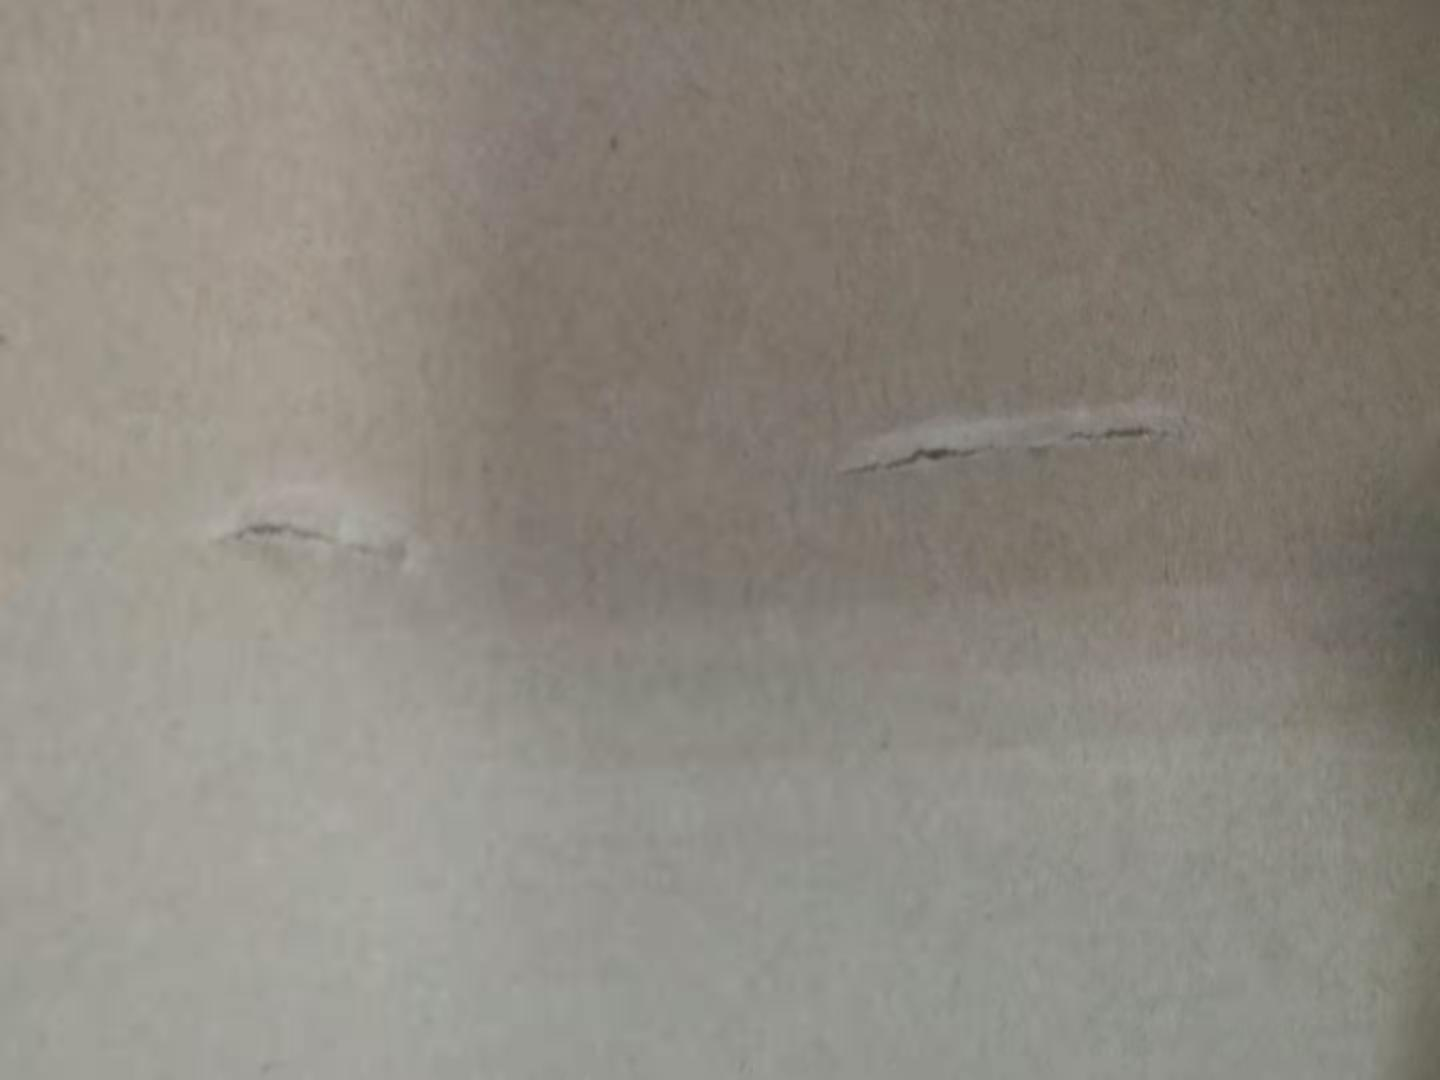defect: (818, 371, 1229, 501), (189, 450, 463, 613)
